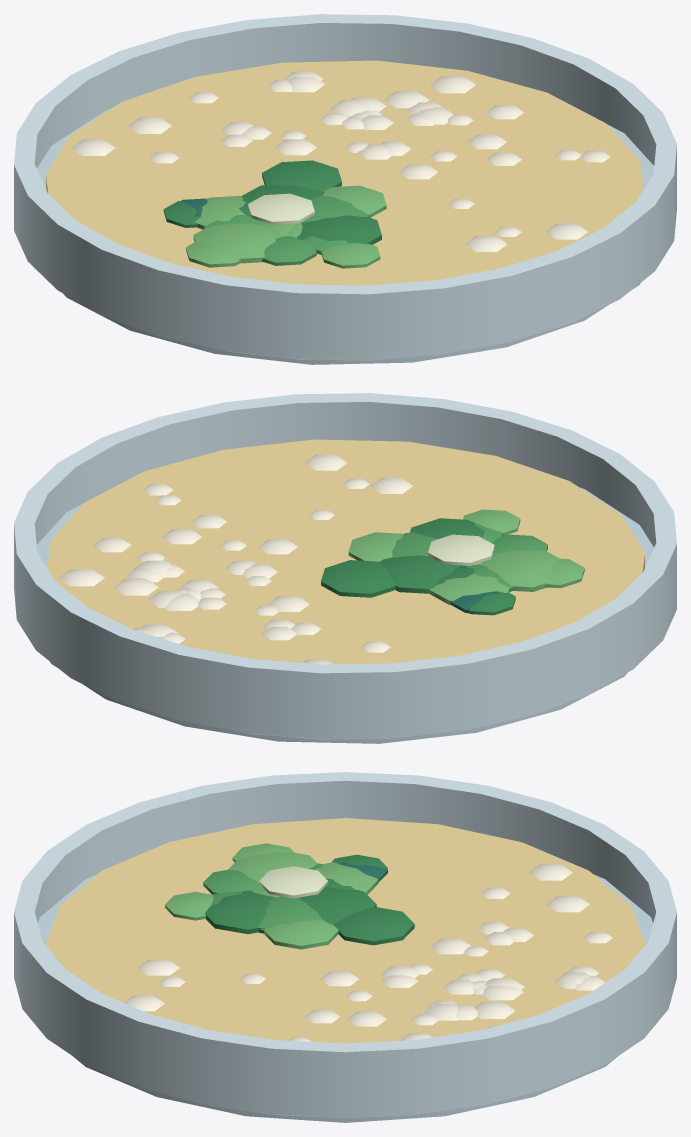
The model's file is petri_mofo.glb.
The picture shows the model from 3 angles, top to bottom: view 1: azimuth 30°, elevation 25°; view 2: azimuth 150°, elevation 25°; view 3: azimuth 270°, elevation 25°; orthographic projection.
Parts seen in each view (by area): view 1: petri_mofo; view 2: petri_mofo; view 3: petri_mofo.
Boxes of the visible parts, x1,y1,x2,y2 form: petri_mofo: [14, 14, 676, 364]; petri_mofo: [14, 393, 676, 743]; petri_mofo: [14, 772, 676, 1122].
Bounding box in the file's own units: 1.28 × 0.16 × 1.28.
